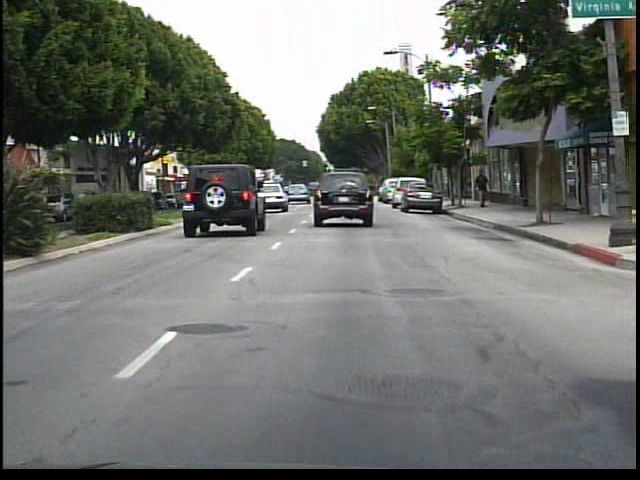person: (470, 166, 492, 211)
